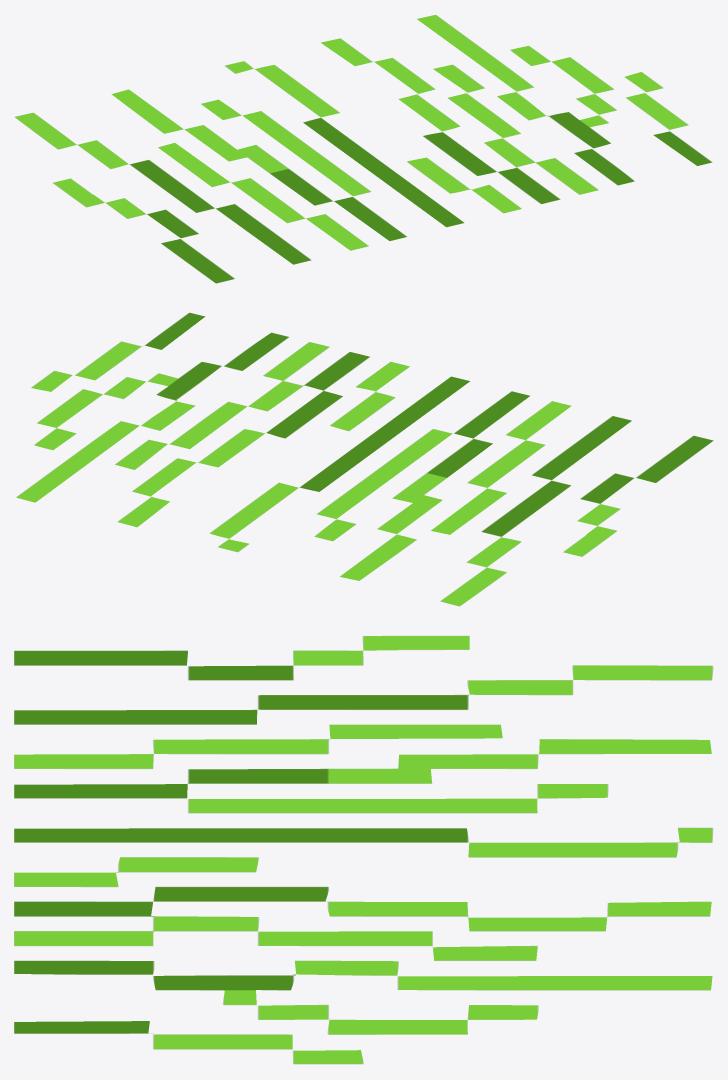
Rendered from pixel_grass.gltf.
3 views of the same model, one above another, from view 1: azimuth 30°, elevation 25°; view 2: azimuth 150°, elevation 25°; view 3: azimuth 270°, elevation 25° (orthographic). The views are drawn at different scales.
Parts seen in each view (by area): view 1: flat_grass; view 2: flat_grass; view 3: flat_grass.
Part boxes in pixels (x1,y1,x2,y2): flat_grass: (15,15,712,283); flat_grass: (16,312,713,606); flat_grass: (14,636,712,1064).
Size of the model in its own units: 1.82 by 0 by 1.25.
Materials: 1 (1 with a texture image).
